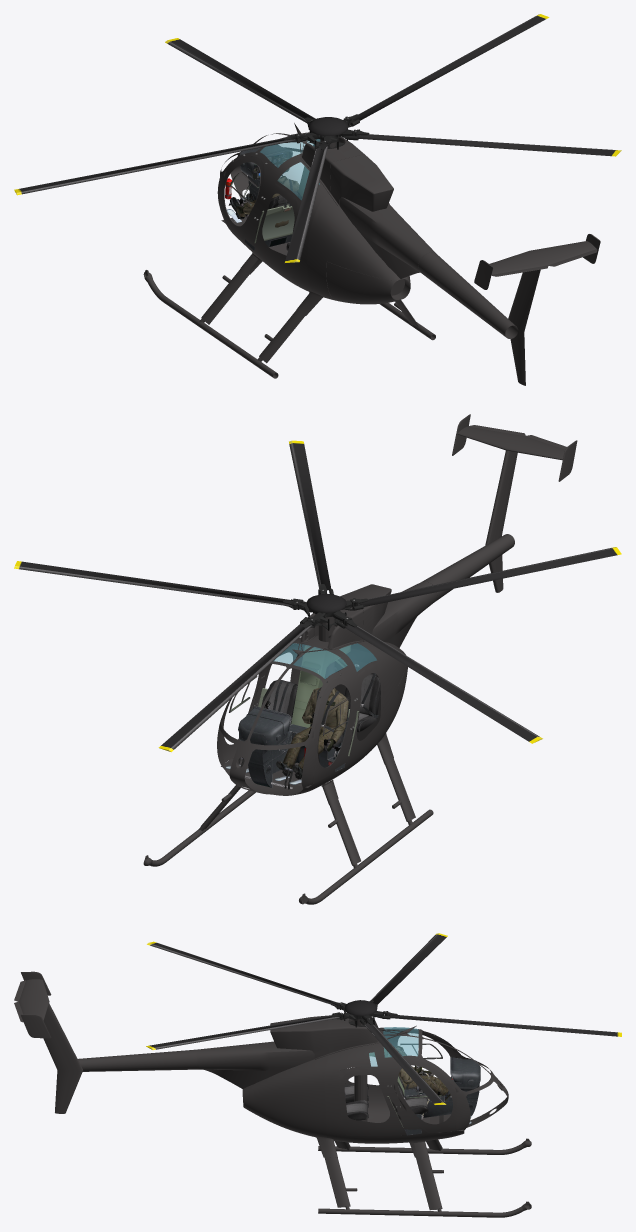
File: md5_int.glb
3 views of the same model, one above another, from view 1: azimuth 30°, elevation 25°; view 2: azimuth 150°, elevation 25°; view 3: azimuth 270°, elevation 25° (orthographic). The views are drawn at different scales.
Parts seen in each view (by area): view 1: boom, body, rotor_blades, skids, ixt_console, rotor_hub, glassF, glassR, ixt_pilot; view 2: rotor_blades, body, boom, ixt_console, skids, ixt_pilot, ixt_seatsL, glassF, ixt_seatsR, rotor_hub; view 3: body, boom, rotor_blades, skids, ixt_console, ixt_seatsR, glassF, glassR, ixt_pilot, rotor_hub.
Boxes of the visible parts, x1,y1,x2,y2 form: boom: (300, 136, 600, 385); body: (217, 132, 410, 304); rotor_blades: (14, 14, 621, 262); skids: (143, 252, 435, 378); ixt_console: (225, 144, 319, 250); rotor_hub: (308, 117, 347, 149); glassF: (260, 139, 320, 167); glassR: (277, 162, 319, 200); ixt_pilot: (230, 176, 299, 227); rotor_blades: (14, 440, 621, 751); body: (217, 616, 407, 795); boom: (299, 414, 577, 649); ixt_console: (238, 645, 358, 787); skids: (143, 733, 433, 904); ixt_pilot: (276, 688, 348, 779); ixt_seatsL: (304, 664, 380, 751); glassF: (273, 643, 347, 678); ixt_seatsR: (261, 666, 337, 724); rotor_hub: (306, 593, 346, 630); body: (242, 1019, 508, 1143); boom: (14, 971, 381, 1113); rotor_blades: (146, 933, 621, 1104); skids: (316, 1136, 531, 1217); ixt_console: (369, 1047, 480, 1135); ixt_seatsR: (346, 1082, 428, 1120); glassF: (383, 1027, 418, 1057); glassR: (339, 1045, 377, 1070); ixt_pilot: (392, 1046, 448, 1095); rotor_hub: (344, 1000, 377, 1027).
Size of the model in its own units: 7.65 by 3.42 by 9.3.
Materials: 14 (8 with a texture image).
